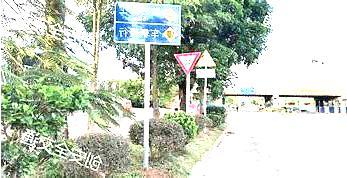sign: (116, 2, 181, 45)
